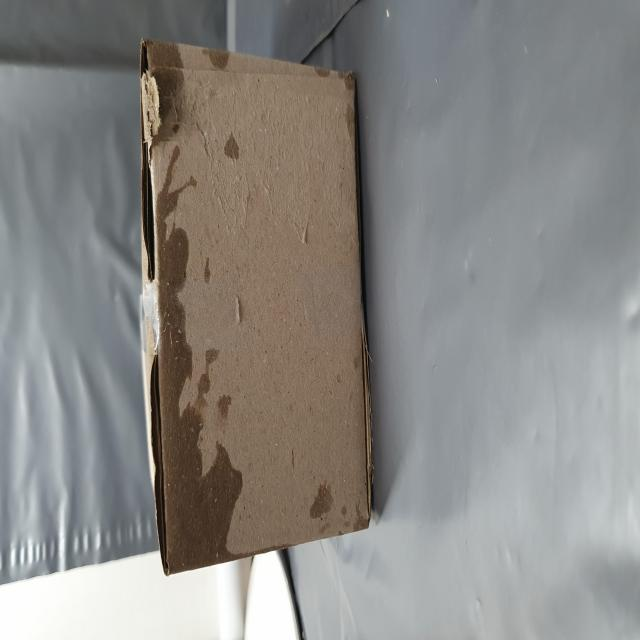wet: (48, 255, 333, 439)
